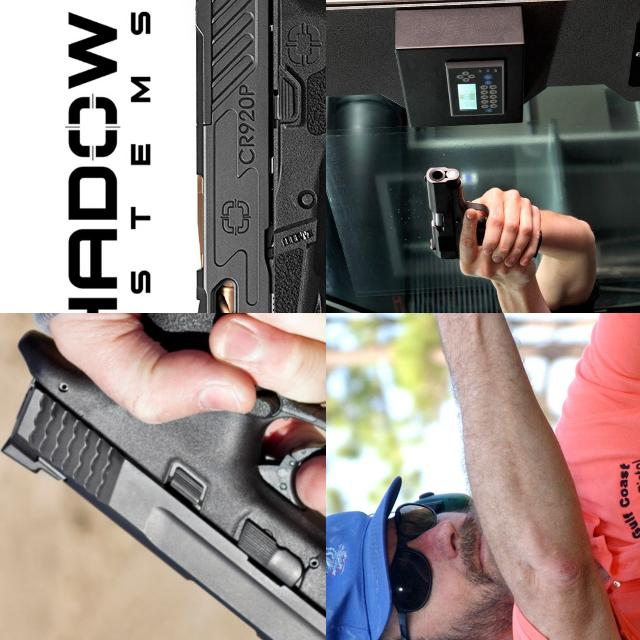handgun: (0, 313, 326, 640), (173, 0, 326, 313), (349, 313, 435, 397), (422, 164, 491, 260)
